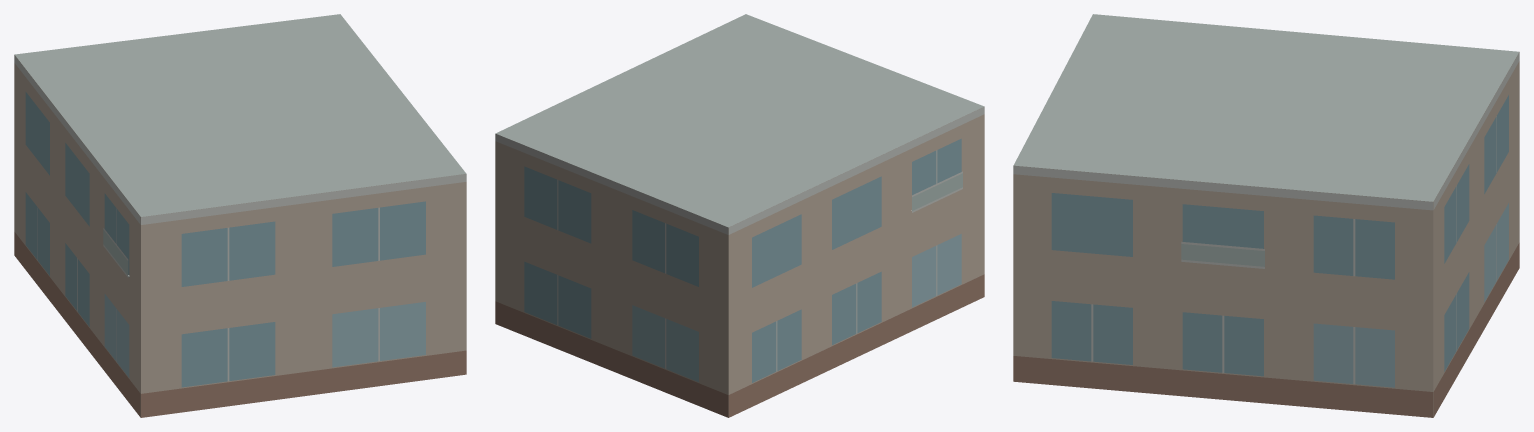
Rendered from survey-upis-32925951.glb.
3 renders of one model, left to right at view 1: azimuth 30°, elevation 25°; view 2: azimuth 150°, elevation 25°; view 3: azimuth 270°, elevation 25°, orthographic. The views are drawn at different scales.
Visible parts, largest first — view 1: survey-upis-32925951.tmp; view 2: survey-upis-32925951.tmp; view 3: survey-upis-32925951.tmp.
Boxes of the visible parts, bbox=[...] form: survey-upis-32925951.tmp: bbox=[14, 14, 466, 417]; survey-upis-32925951.tmp: bbox=[495, 14, 984, 417]; survey-upis-32925951.tmp: bbox=[1013, 14, 1519, 417].
Size of the model in its own units: 11.39 by 6.1 by 12.97.
